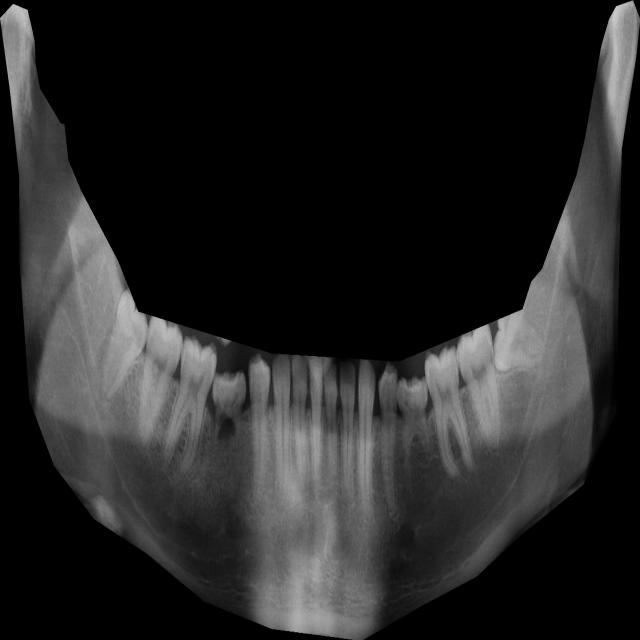mandibula: (0, 0, 640, 640)
